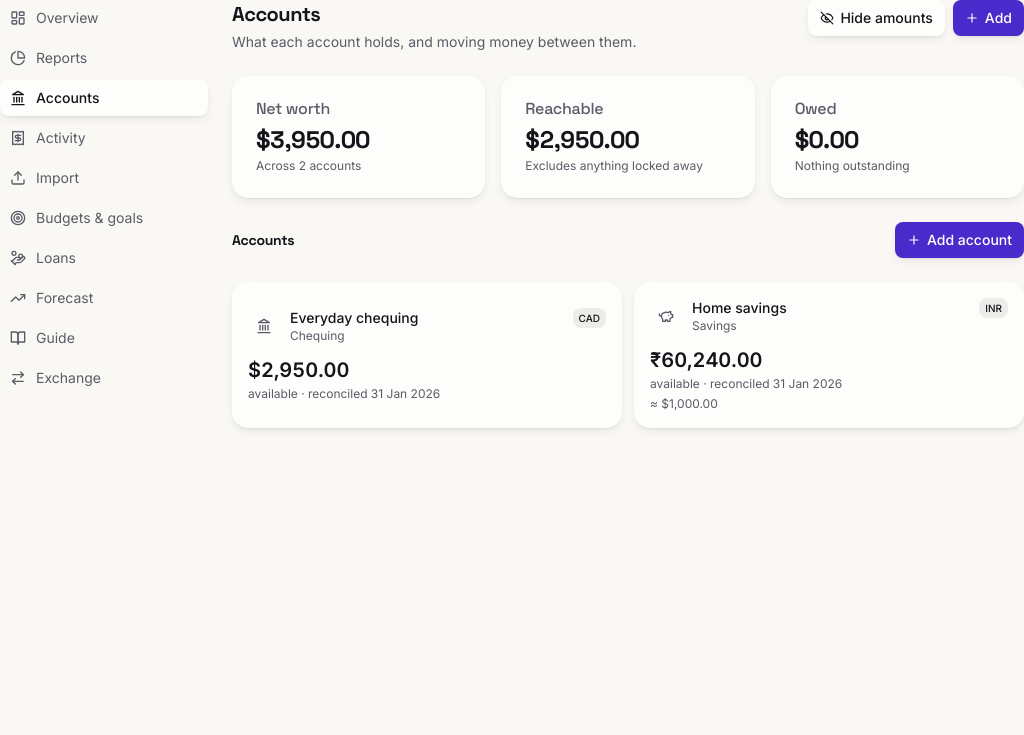
Test: the finance workspace › renders Guide with no placeholder
Click the button "Guide" at (104,338), box [0,320,208,356]
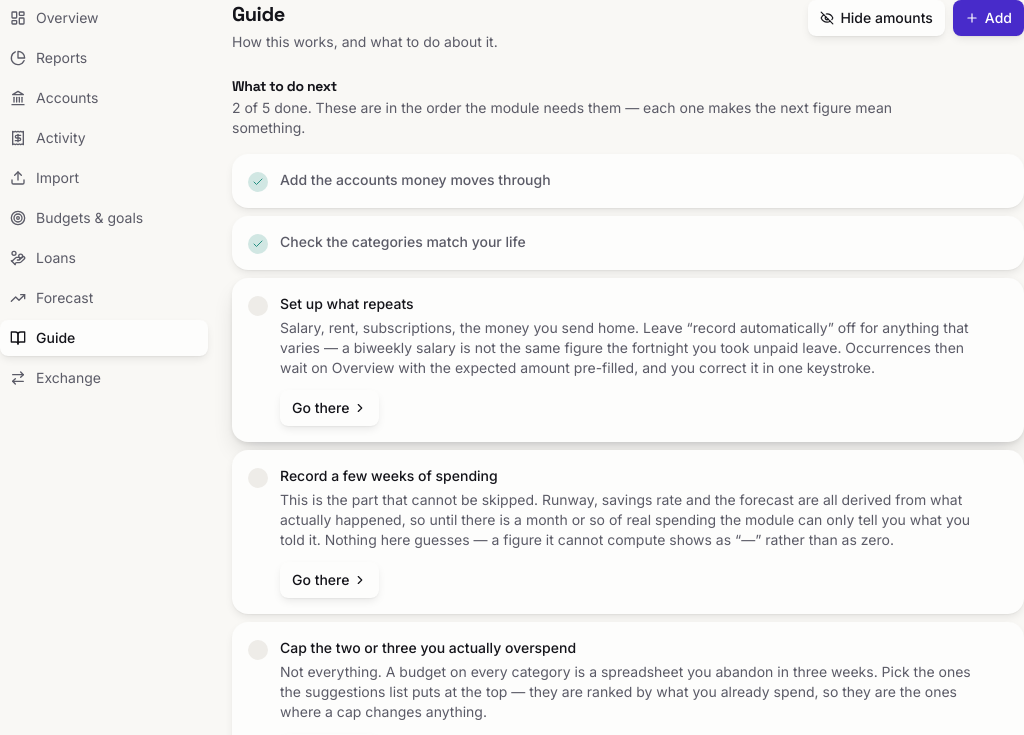
Expected: the heading "Guide" is shown, [232,1,285,27]
